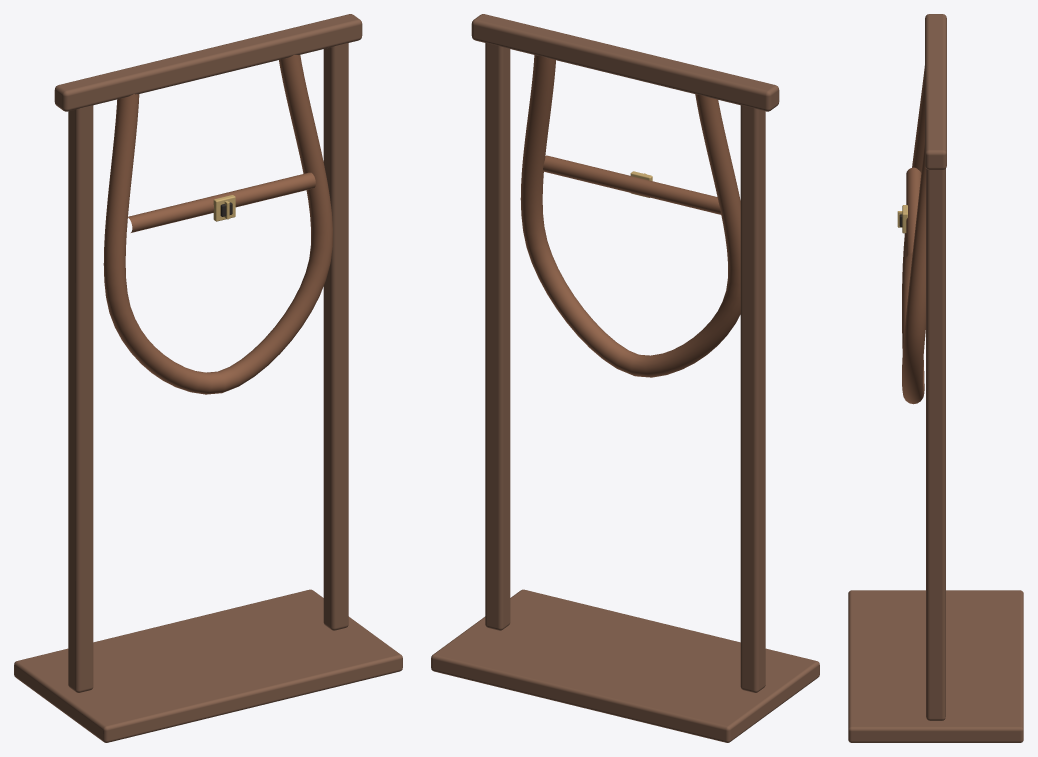
Rendered from griffin-airmail-roost-and-posthouse-harness-hanging-fr-7fd48102__30508.glb.
The picture shows the model from 3 angles, left to right: view 1: azimuth 30°, elevation 25°; view 2: azimuth 150°, elevation 25°; view 3: azimuth 270°, elevation 25°; orthographic projection. The views are drawn at different scales.
Visible parts, largest first — view 1: harness-hanging-frame; view 2: harness-hanging-frame; view 3: harness-hanging-frame.
Boxes of the visible parts, x1,y1,x2,y2 form: harness-hanging-frame: (14,14,402,742); harness-hanging-frame: (431,14,819,742); harness-hanging-frame: (848,14,1023,742).
Bounding box in the file's own units: 0.75 × 1.49 × 0.4.
